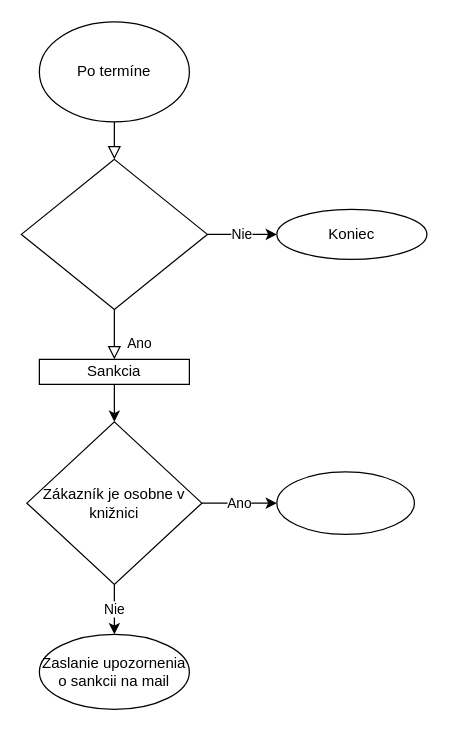
Some shapes in this 450 by 731 pixel diagram are drawn without their labels. The centre of each missing label's shape, as x and y in pixels:
"Kniha je odovzdaná po termíne" belongs at (x=113, y=233).
"Zaplatí na mieste" belongs at (x=345, y=502).
